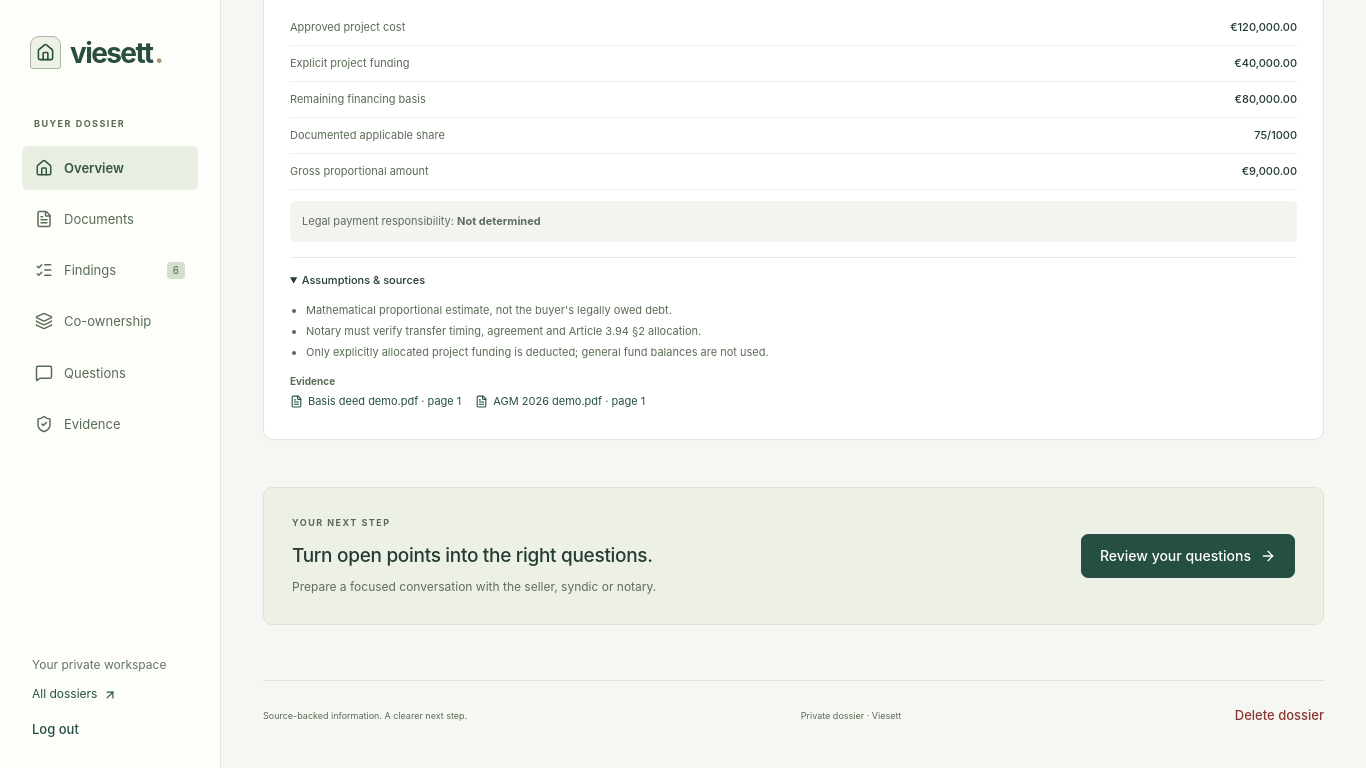
it: keeps the dossier and shows deletion errors inside the confirmation dialog
(page scrolled)
Click the button with aria-label "Delete dossier for" at x=1279, y=715, box [1235,701,1324,730]
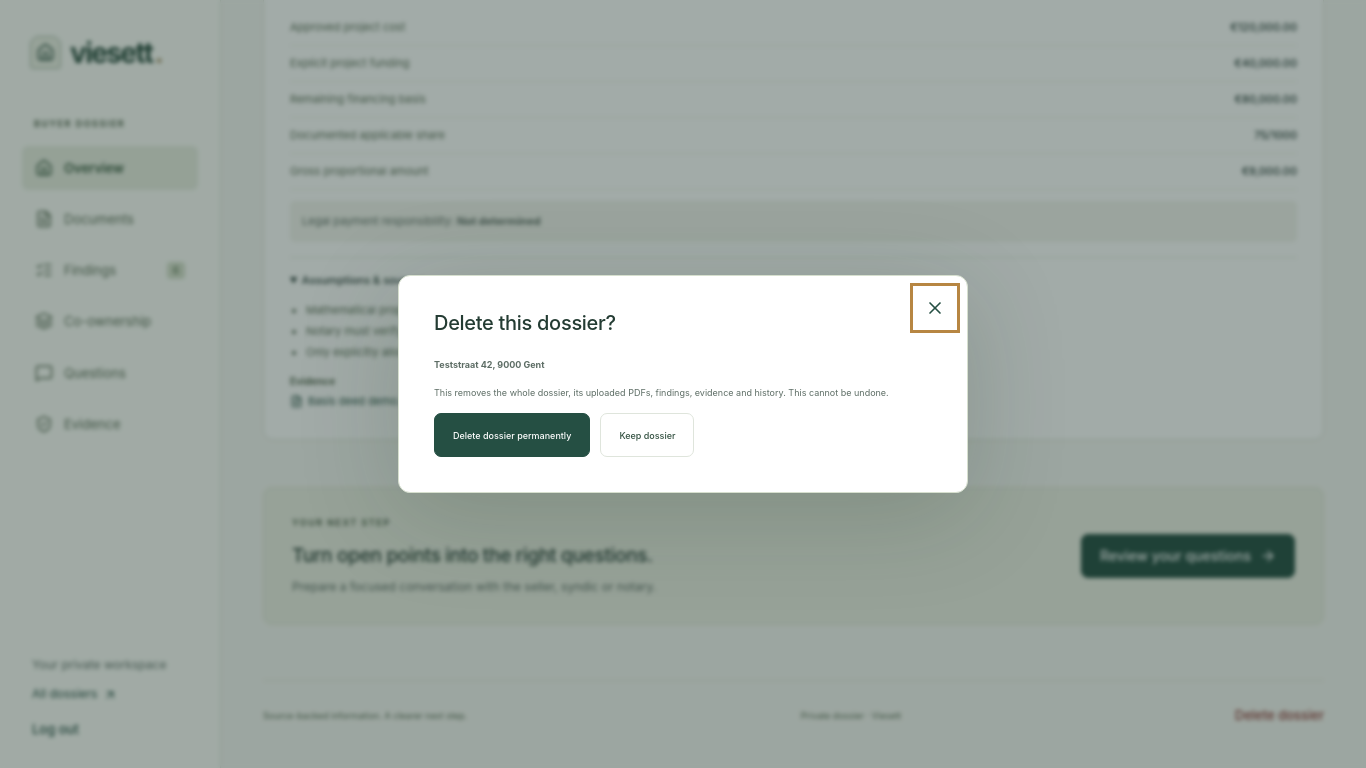
Click the button "Delete dossier permanently" at x=512, y=435, box [434,413,590,457]
(page scrolled)
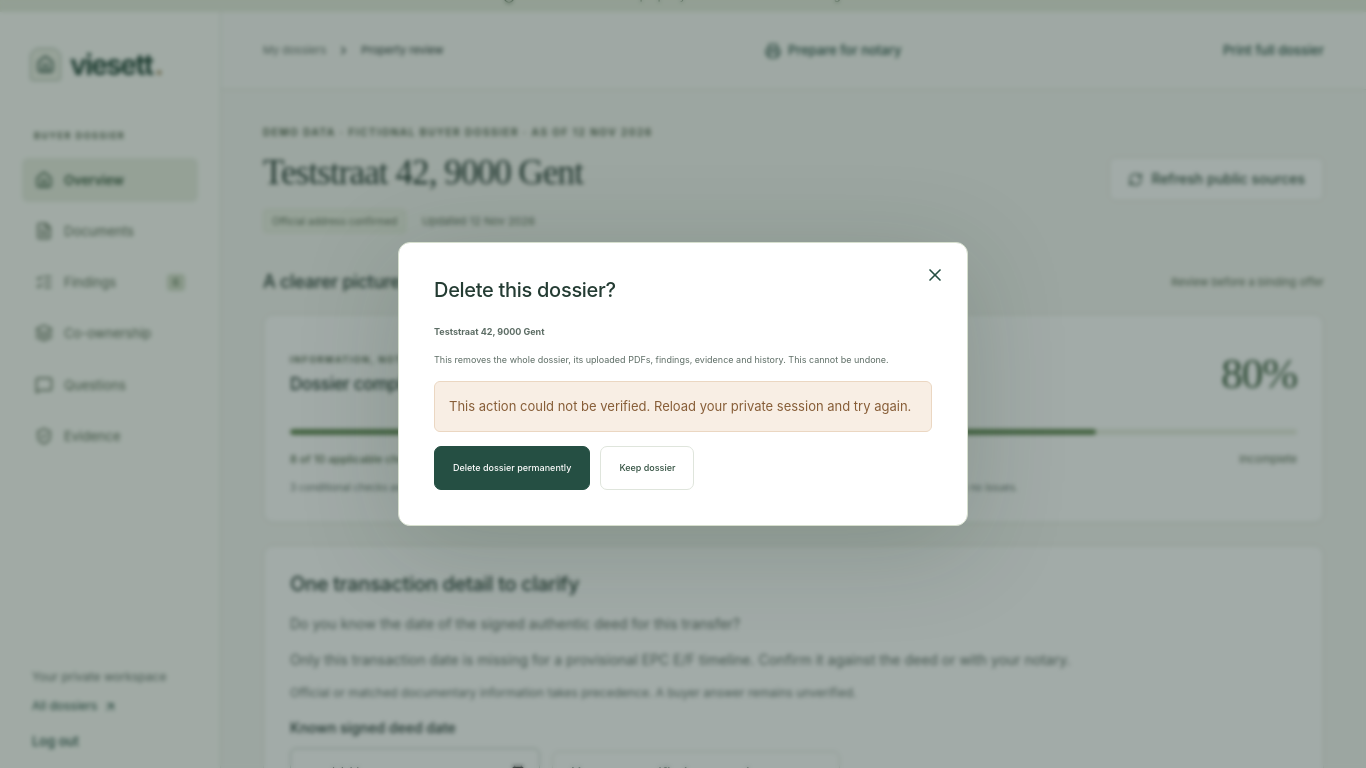
expect the heading "Dossier completeness" is shown: met, box [290,374,464,395]
expect the message shows "Reload your private session": met, box [449,398,911,414]
